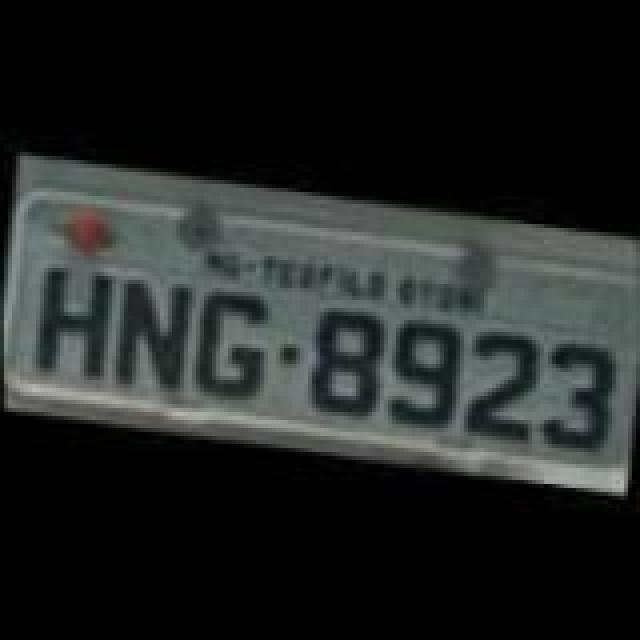2: (456, 326, 552, 446)
3: (532, 332, 628, 456)
8: (296, 302, 396, 426)
9: (380, 316, 472, 432)
G: (184, 284, 276, 404)
H: (24, 260, 124, 388)
N: (108, 268, 200, 396)
